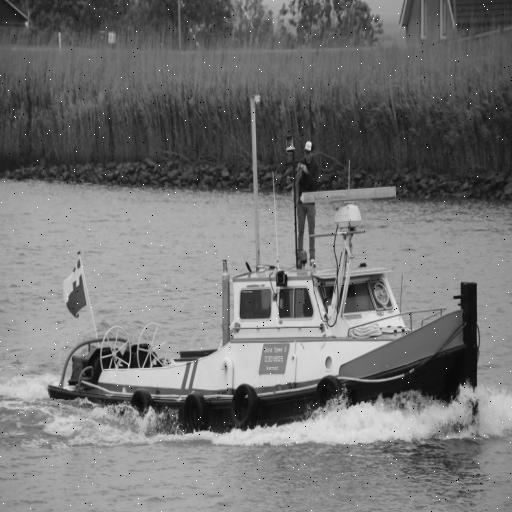tugboat: (46, 165, 488, 446)
